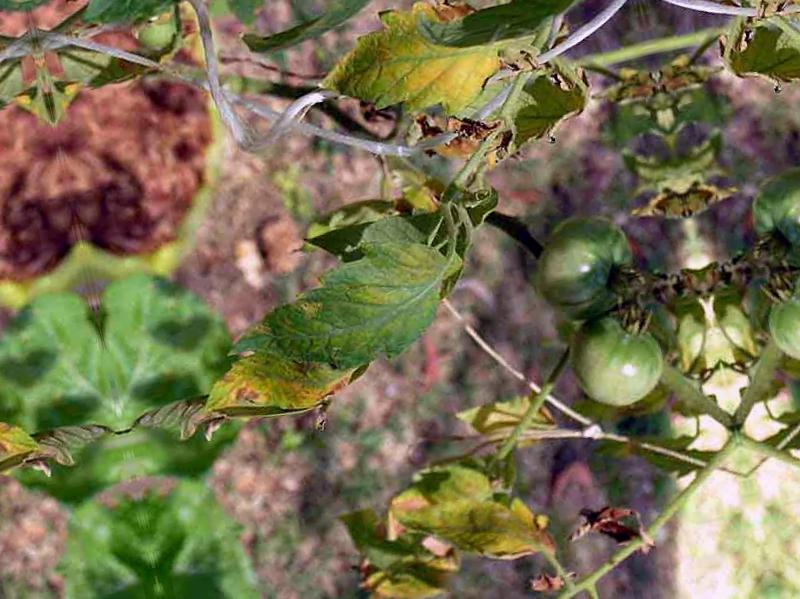Tomato mold leaf: (153, 224, 475, 447), (285, 0, 525, 150), (397, 469, 558, 595)
